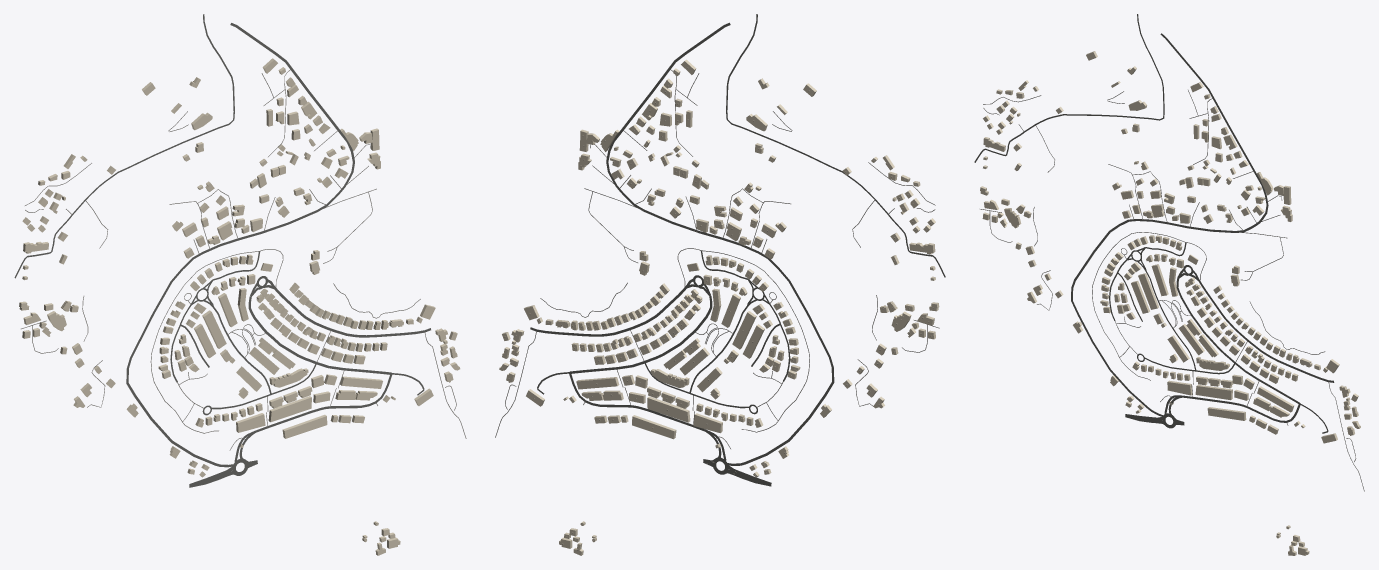
Rendered from historic-palestine-10_23_3516_3172.glb.
The picture shows the model from 3 angles, left to right: view 1: azimuth 30°, elevation 25°; view 2: azimuth 150°, elevation 25°; view 3: azimuth 330°, elevation 25°; orthographic projection. The views are drawn at different scales.
Parts seen in each view (by area): view 1: Road Al-Dahar, Building_.222, Road האלה.002; view 2: Road Al-Dahar, Building_.222, Road האלה.002; view 3: Road Al-Dahar.
Boxes of the visible parts, x1,y1,x2,y2 form: Road Al-Dahar: (126, 23, 354, 467); Building_.222: (268, 396, 311, 422); Road האלה.002: (248, 296, 391, 374); Road Al-Dahar: (606, 22, 834, 465); Building_.222: (647, 396, 690, 422); Road האלה.002: (569, 296, 712, 373); Road Al-Dahar: (1071, 33, 1268, 416).
Bounding box in the file's own units: 985 × 1216 × 9.09.
